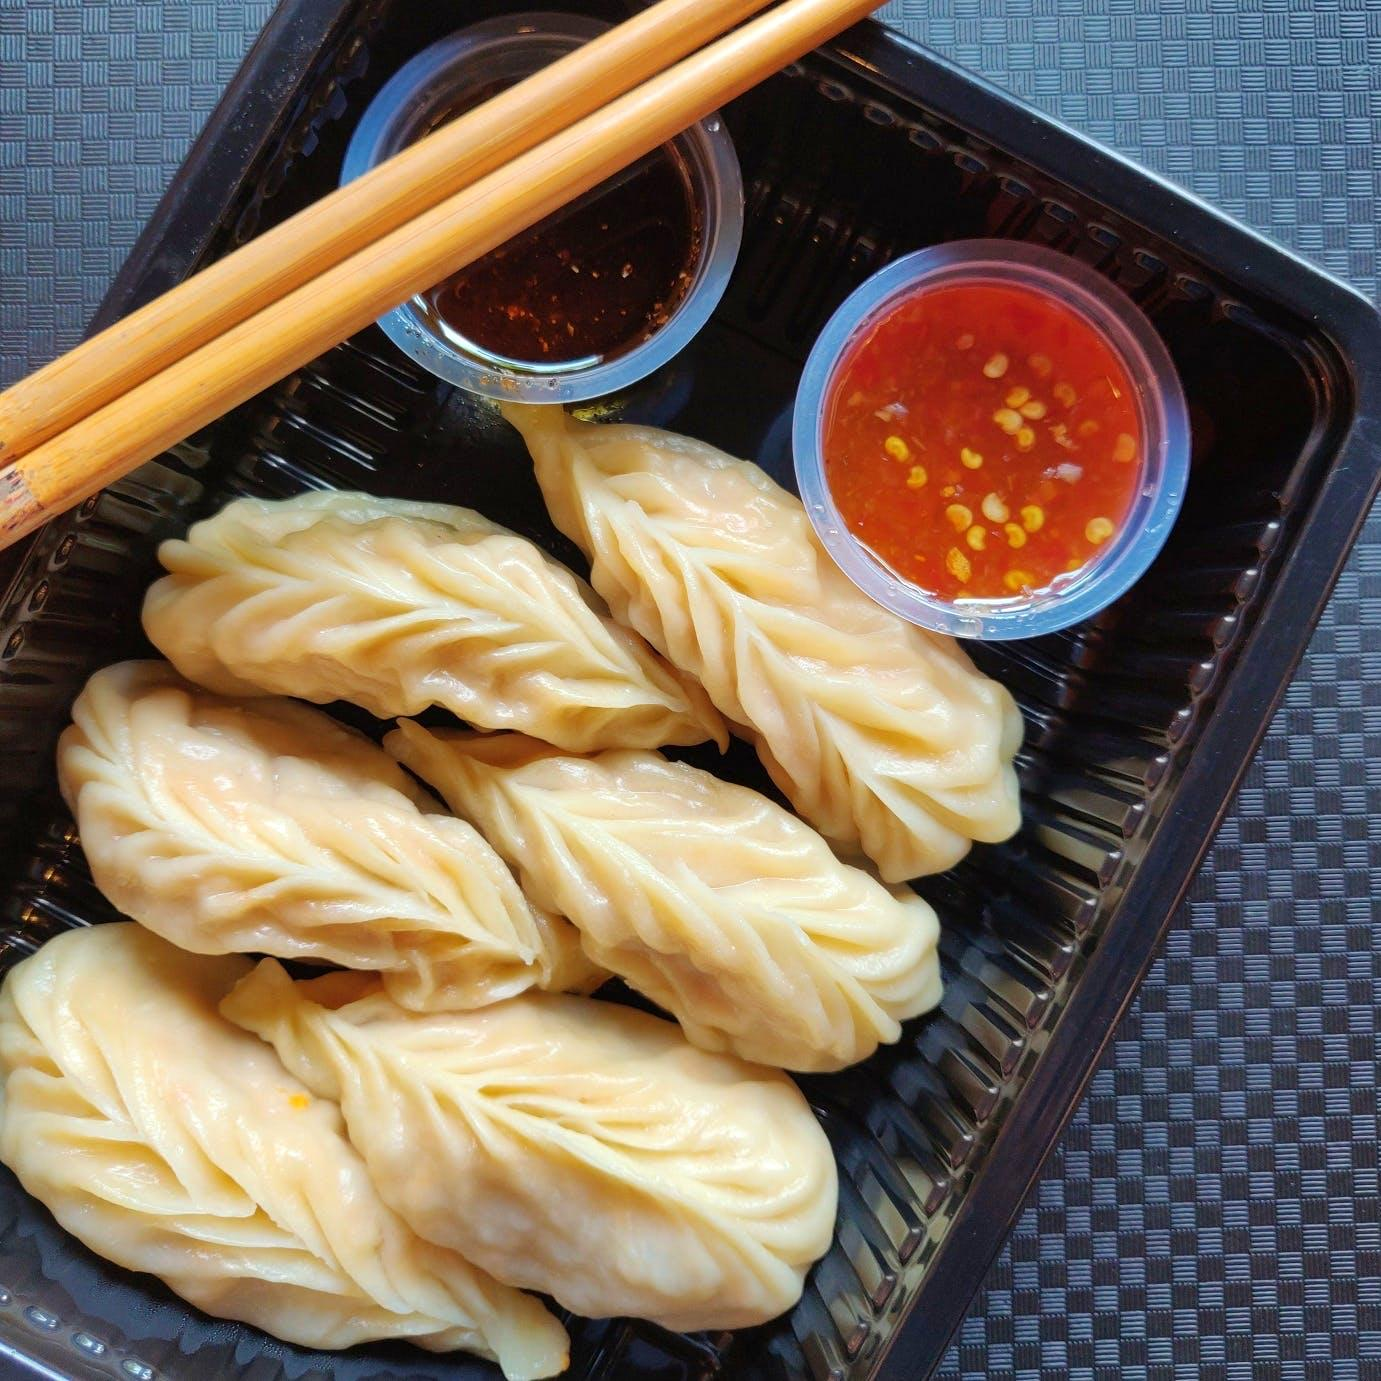momos: (503, 405, 1022, 881), (221, 962, 836, 1329), (0, 922, 493, 1357), (386, 720, 941, 1071), (57, 661, 605, 1012), (143, 491, 726, 752)
